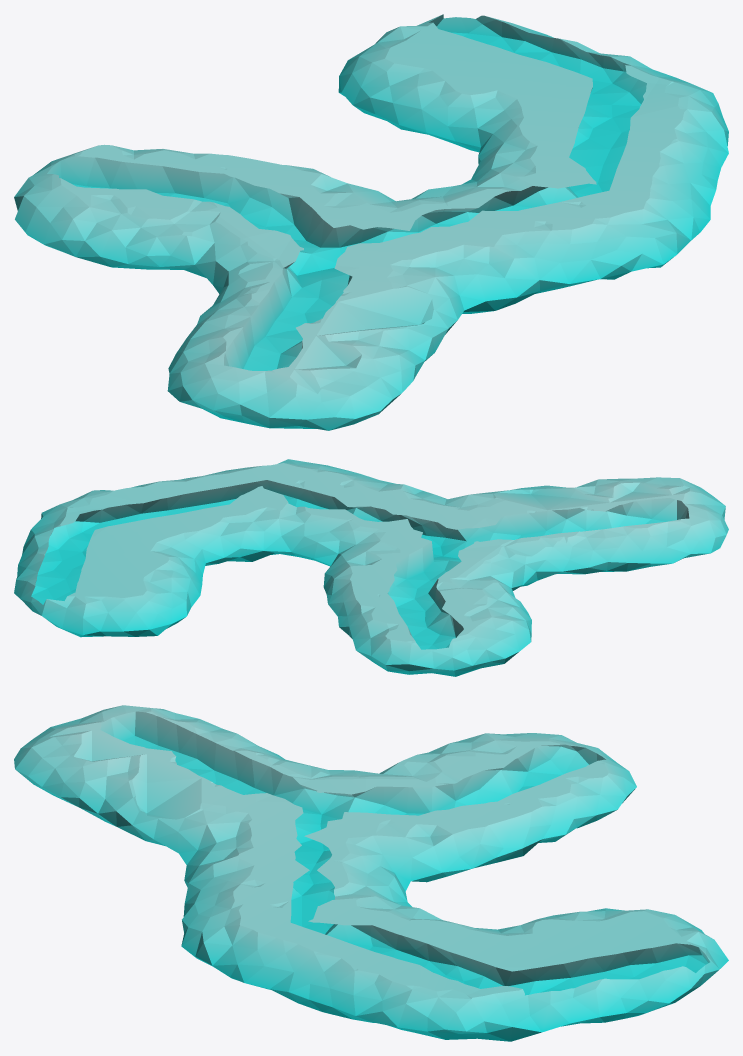
The model's file is mount2.fbx.
3 views of the same model, one above another, from view 1: azimuth 30°, elevation 25°; view 2: azimuth 150°, elevation 25°; view 3: azimuth 270°, elevation 25° (orthographic). The views are drawn at different scales.
Parts seen in each view (by area): view 1: attribwrangle4; view 2: attribwrangle4; view 3: attribwrangle4.
Part boxes in pixels (bbox=[...]): attribwrangle4: bbox=[14, 14, 728, 430]; attribwrangle4: bbox=[14, 459, 728, 676]; attribwrangle4: bbox=[14, 705, 728, 1041].
Bounding box in the file's own units: 55.97 × 4.6 × 53.29.
